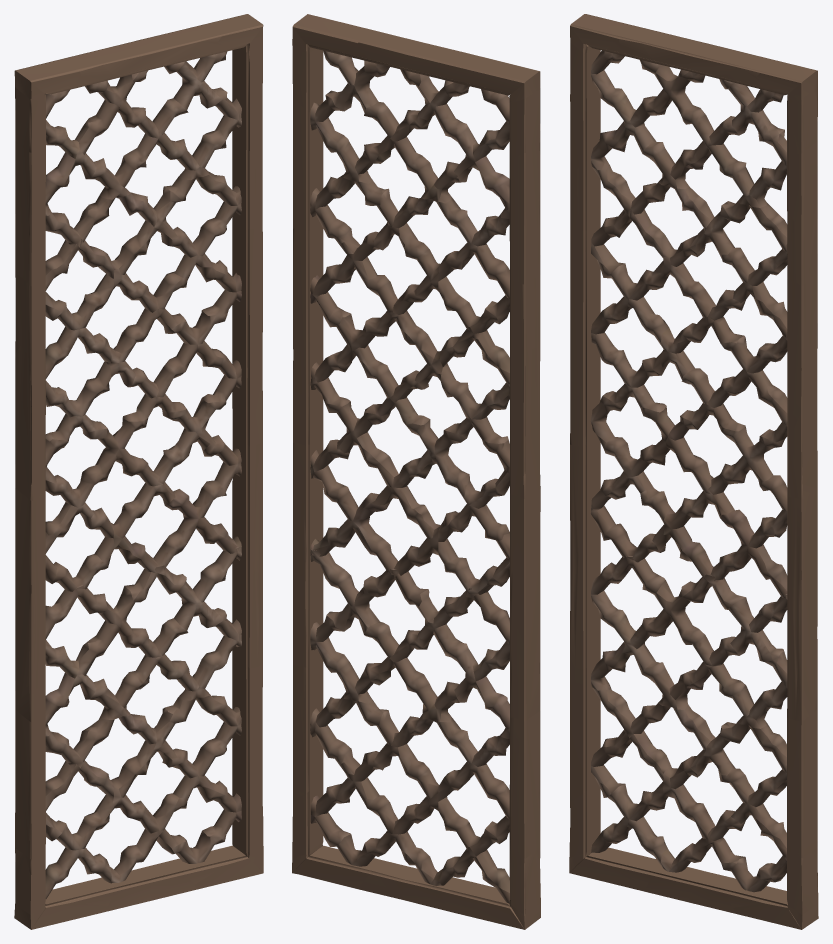
Rendered from SM_ChuangHuMen02_ef2ca1.glb.
3 renders of one model, left to right at view 1: azimuth 30°, elevation 25°; view 2: azimuth 150°, elevation 25°; view 3: azimuth 330°, elevation 25°, orthographic.
Parts seen in each view (by area): view 1: SM_ChuangHuMen02; view 2: SM_ChuangHuMen02; view 3: SM_ChuangHuMen02.
Part boxes in pixels (x1=…): SM_ChuangHuMen02: x1=14, y1=14, x2=263, y2=929; SM_ChuangHuMen02: x1=292, y1=14, x2=540, y2=929; SM_ChuangHuMen02: x1=569, y1=14, x2=818, y2=929.
Bounding box in the file's own units: 0.6714 × 2.33 × 0.084.
2 materials, 2 textured.
